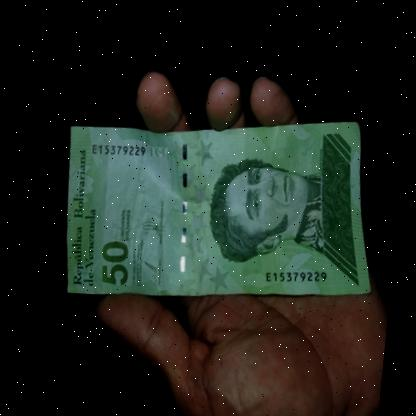fifty-front-vef: (56, 98, 390, 316)
